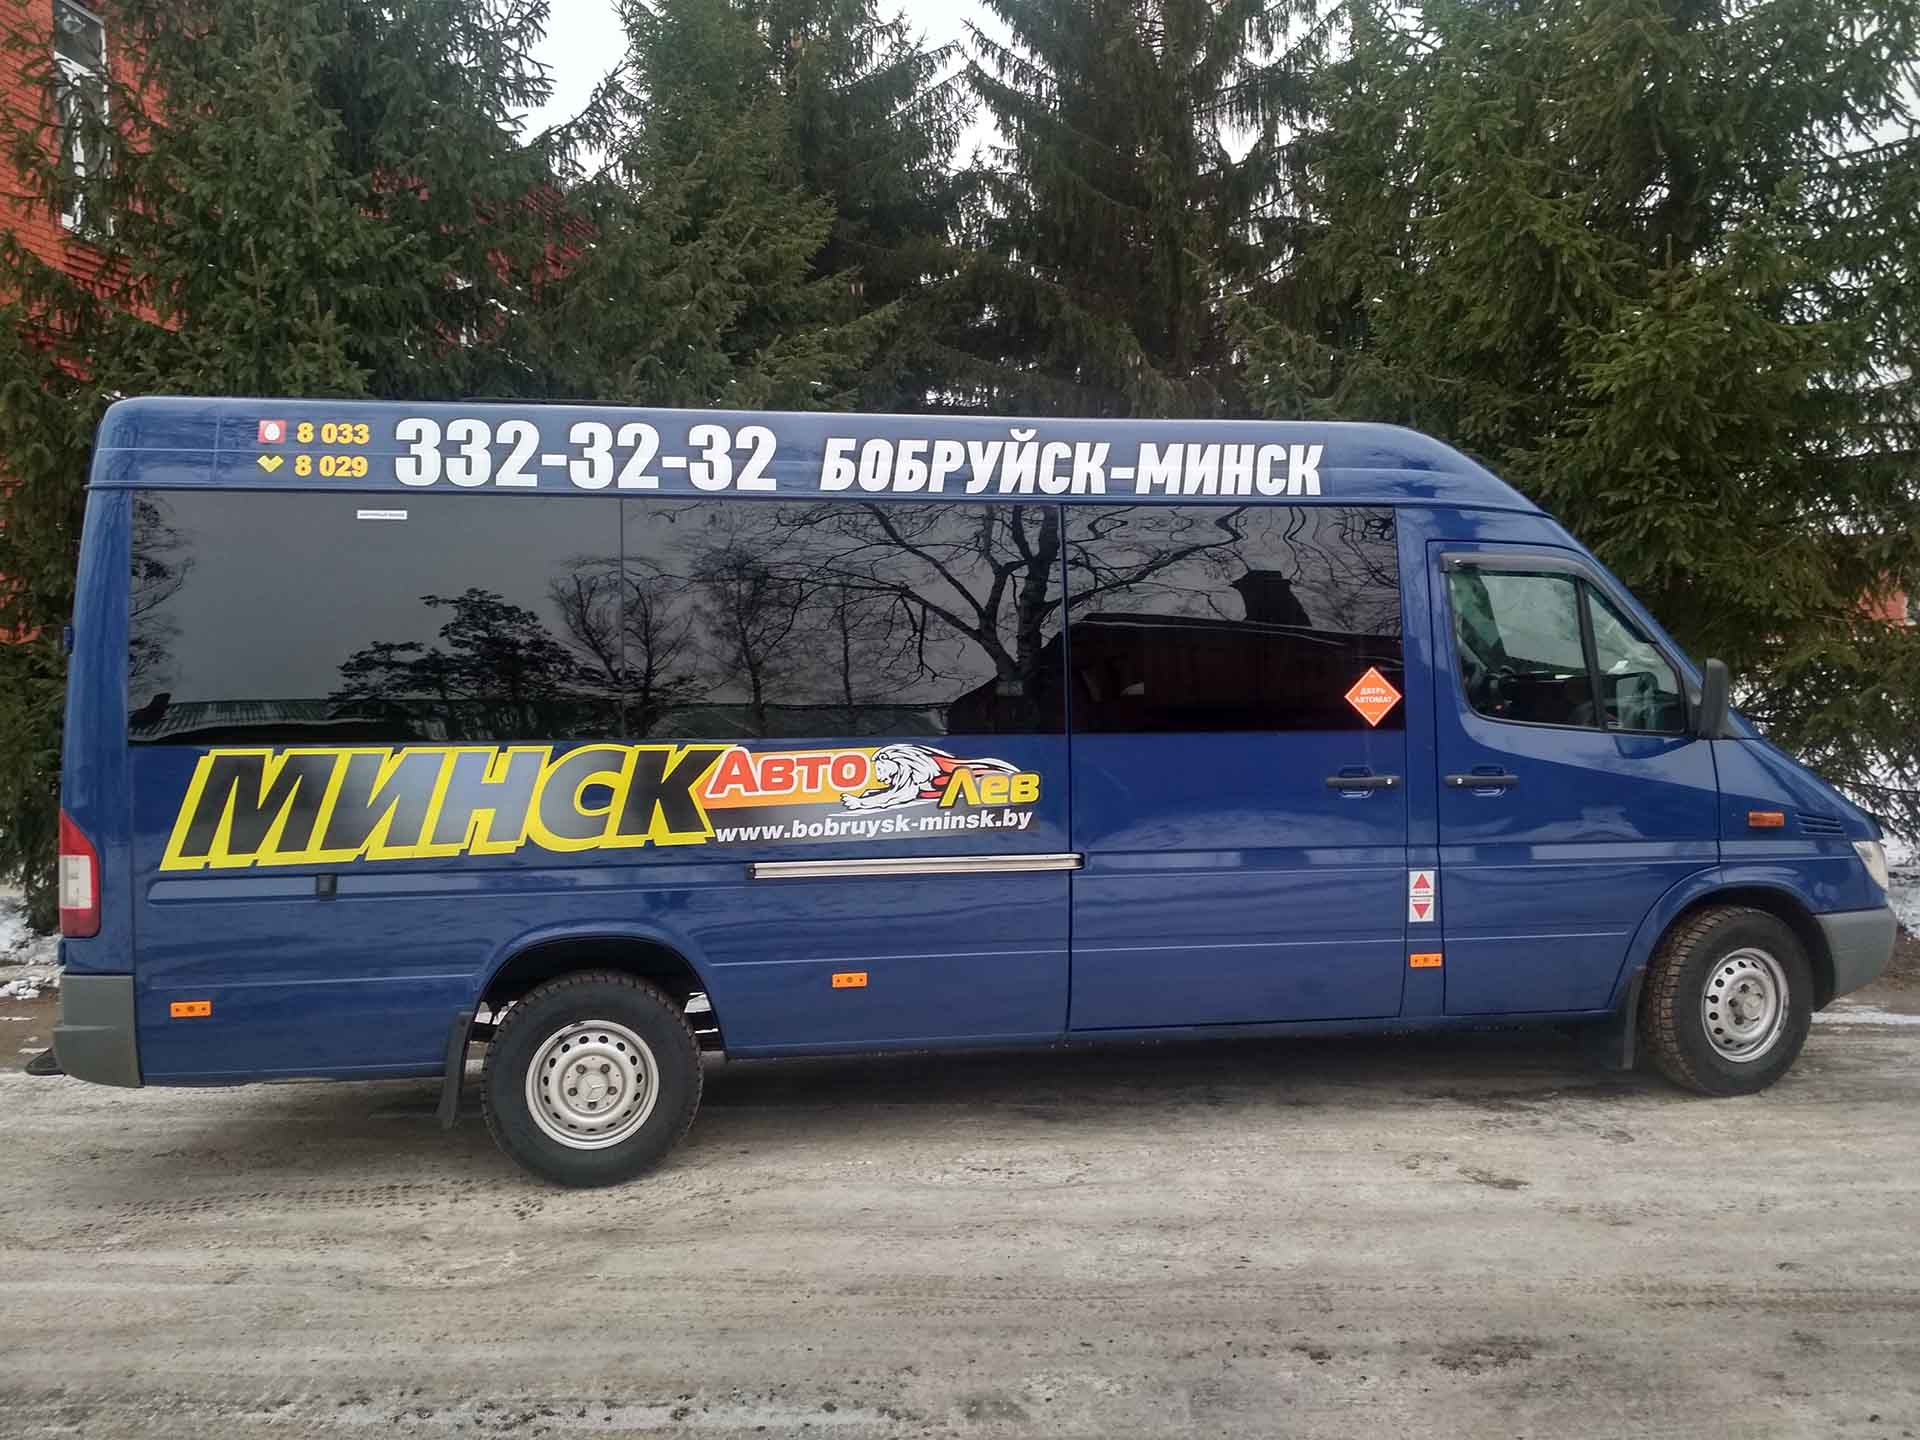van: (57, 390, 1900, 1198)
